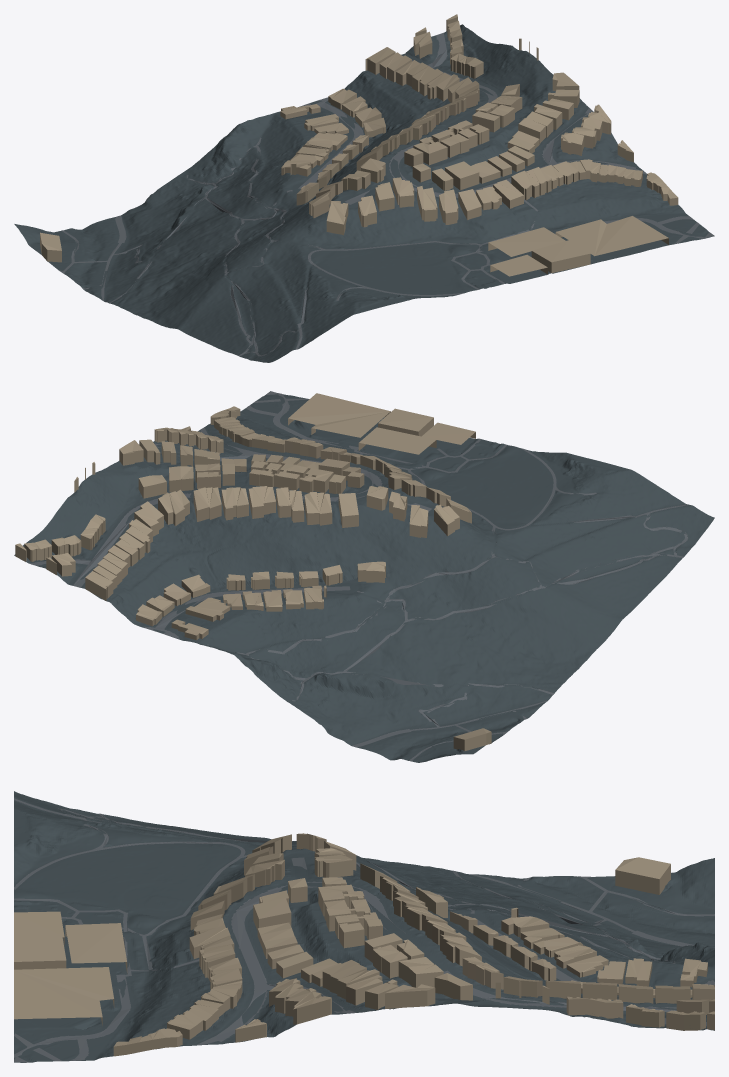
The model's file is epsg26910-1430-10878.lod0.glb.
The picture shows the model from 3 angles, top to bottom: view 1: azimuth 30°, elevation 25°; view 2: azimuth 150°, elevation 25°; view 3: azimuth 270°, elevation 25°; orthographic projection. The views are drawn at different scales.
Visible parts, largest first — view 1: epsg26910-1430-10878-lod0; view 2: epsg26910-1430-10878-lod0; view 3: epsg26910-1430-10878-lod0.
Part boxes in pixels (box(x1,y1,x2,y2)): epsg26910-1430-10878-lod0: box(14, 14, 714, 362); epsg26910-1430-10878-lod0: box(14, 391, 714, 762); epsg26910-1430-10878-lod0: box(14, 791, 714, 1062).
Size of the model in its own units: 384 by 123 by 384.
